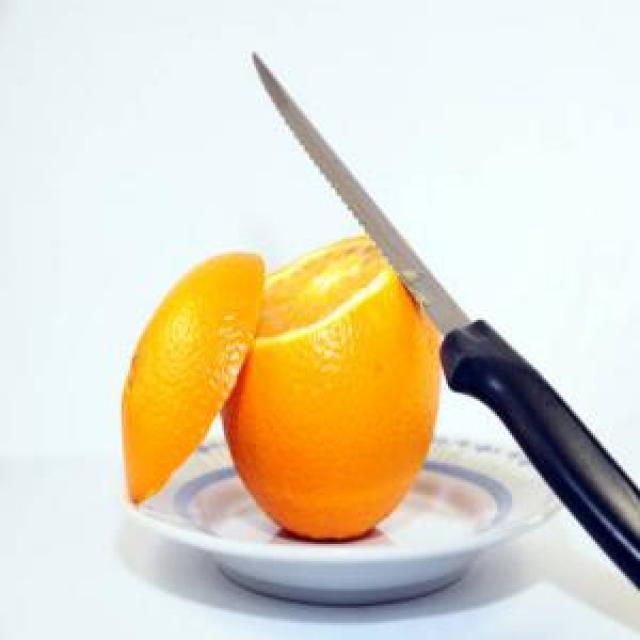knife: (252, 47, 638, 593)
